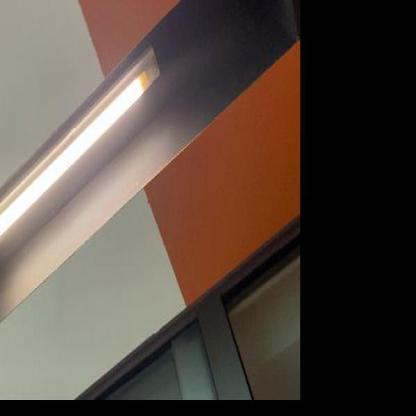light_on: (0, 36, 170, 266)
